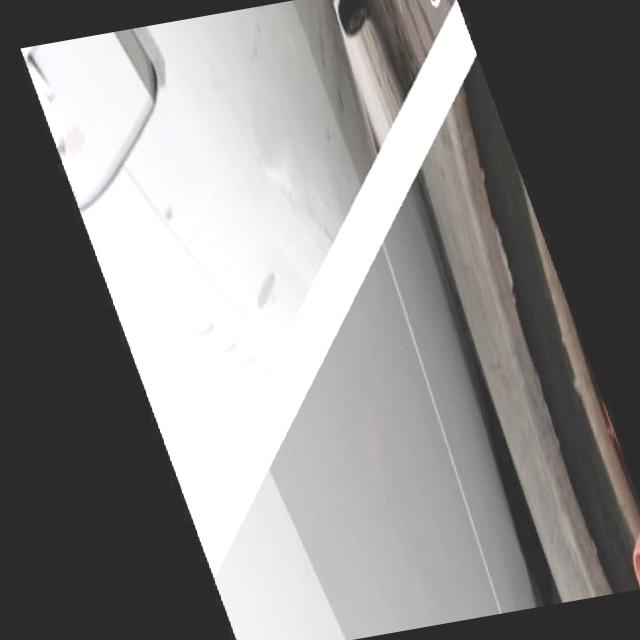dent: (258, 147, 339, 255), (479, 479, 532, 609)
